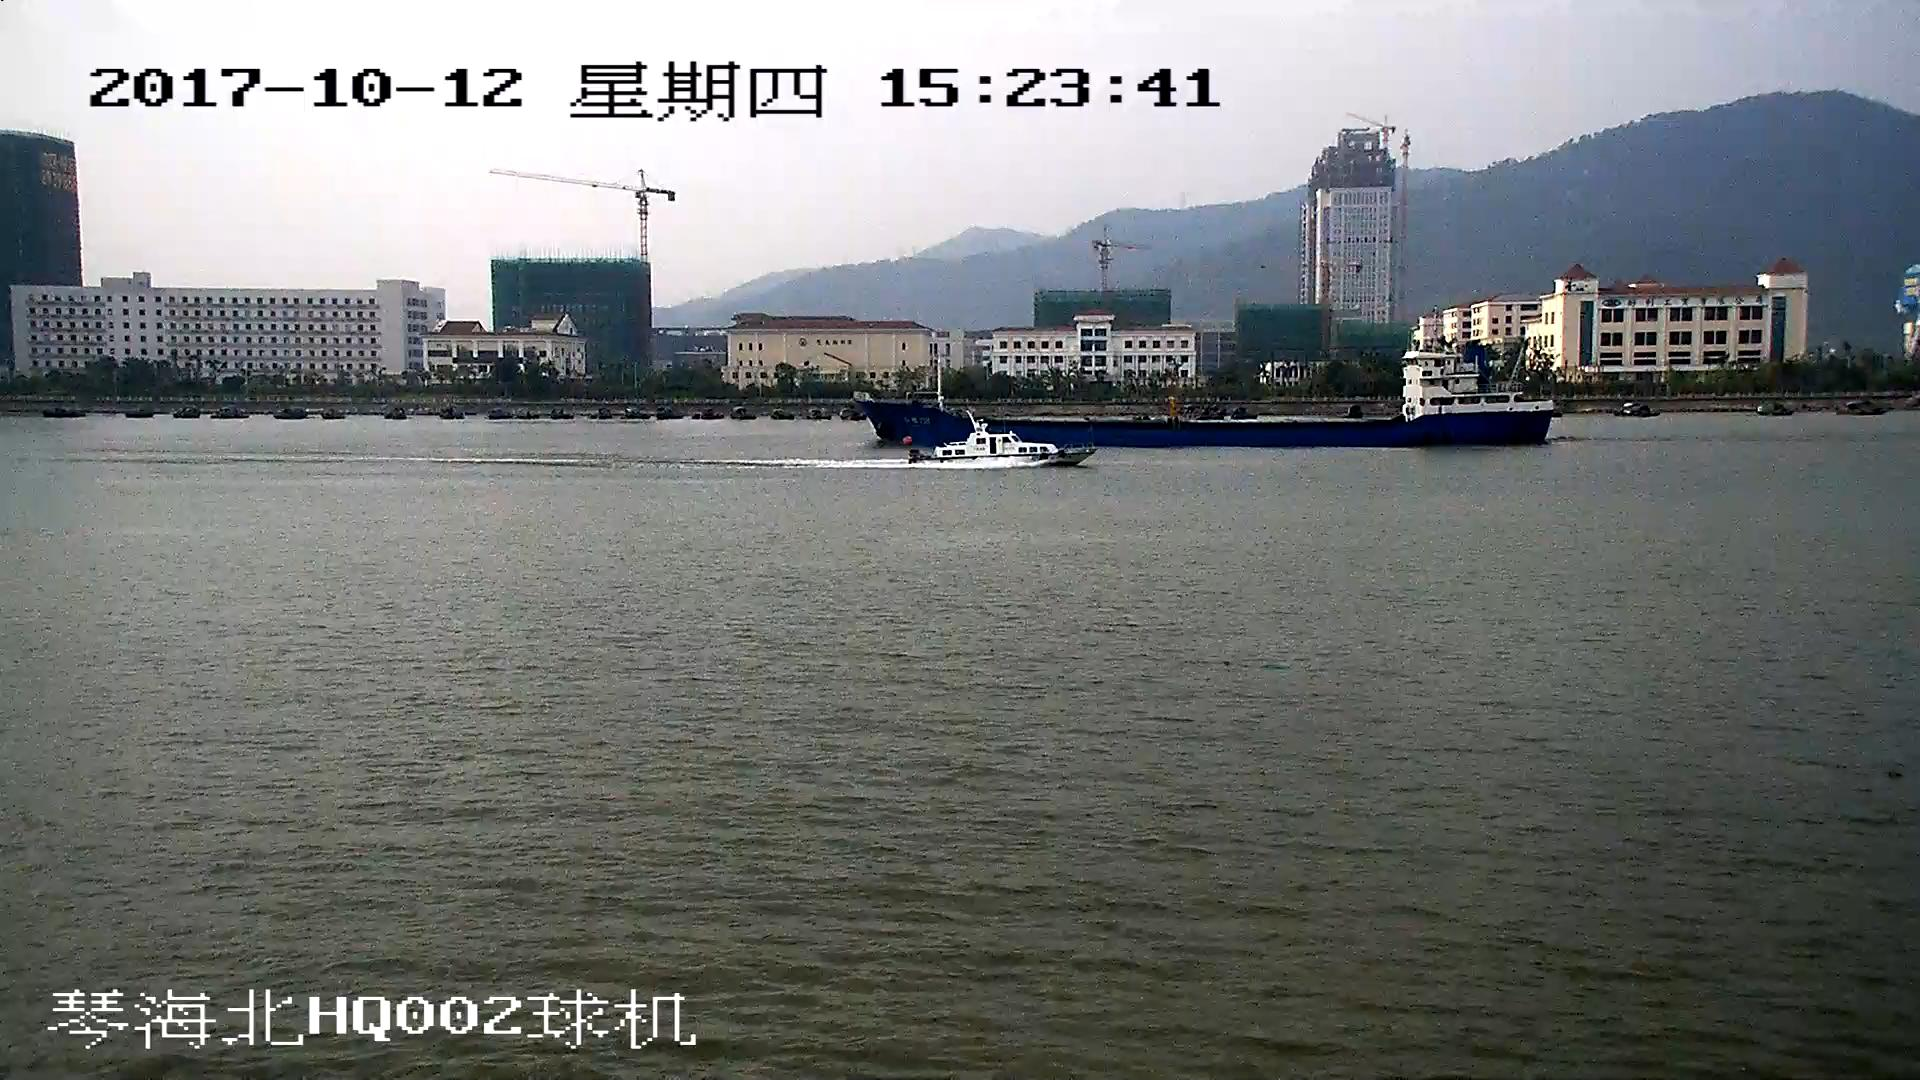bulk cargo carrier: (863, 328, 1550, 439)
passenger ship: (920, 417, 1088, 467)
